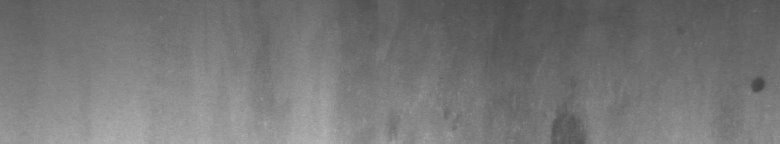fi: (747, 72, 768, 100)
